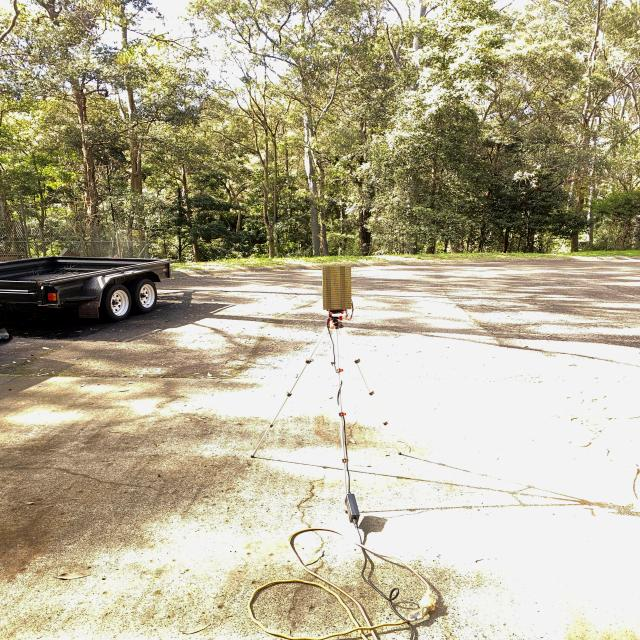matrix: (313, 261, 364, 314)
